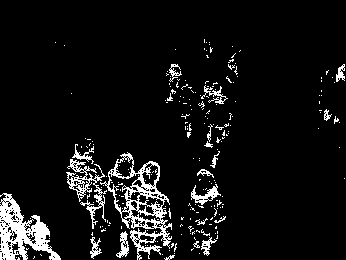person: (130, 157, 180, 260), (66, 138, 110, 253), (106, 152, 144, 258), (184, 168, 227, 254), (200, 77, 233, 169), (165, 62, 198, 139)
